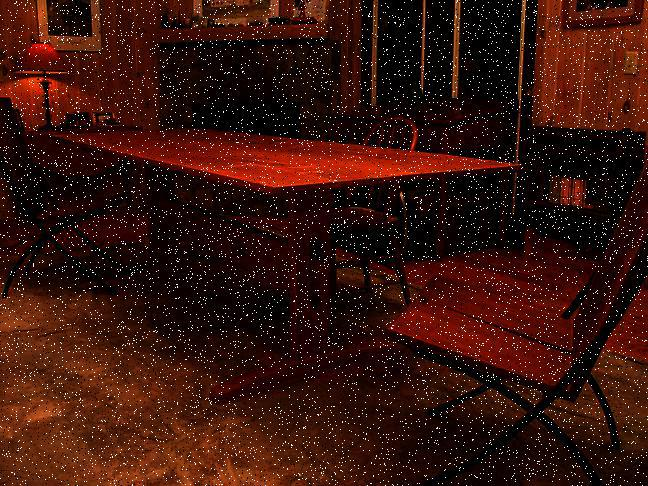Mesa: (53, 128, 529, 409)
Silla: (391, 154, 647, 485), (266, 109, 423, 339), (0, 100, 127, 306)
